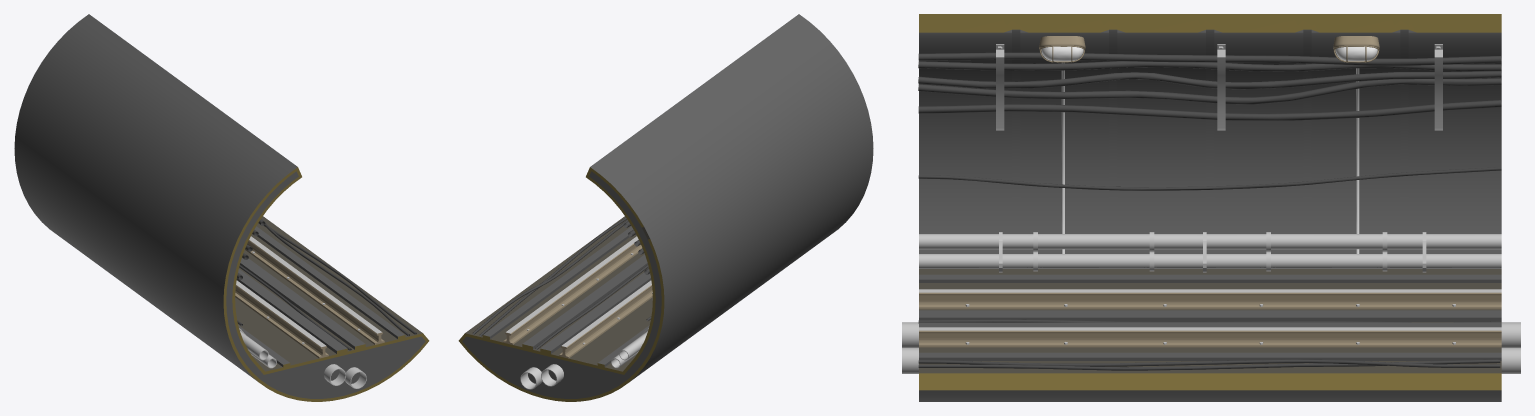
Rendered from SubwaySection.fbx.
The picture shows the model from 3 angles, left to right: view 1: azimuth 30°, elevation 25°; view 2: azimuth 150°, elevation 25°; view 3: azimuth 270°, elevation 25°; orthographic projection. The views are drawn at different scales.
Parts seen in each view (by area): view 1: Tunnel, Rails, wires2, underground pipes, pipes, wires3; view 2: Tunnel, Rails, wires2, underground pipes, pipes, wires3; view 3: Tunnel, Rails, wires, pipes, wires2, wire3, underground pipes, wires3, wire holder 2, wire holder 3, wire holder1, lamp wires2 (+3 smaller).
Boxes of the visible parts, box(x1,y1,x2,y2) form: Tunnel: box(14, 14, 429, 401); Rails: box(235, 236, 384, 358); wires2: box(261, 218, 416, 336); underground pipes: box(324, 364, 366, 388); pipes: box(240, 331, 276, 368); wires3: box(239, 265, 351, 350); Tunnel: box(458, 14, 873, 401); Rails: box(503, 236, 652, 358); wires2: box(472, 217, 627, 336); underground pipes: box(520, 364, 563, 389); pipes: box(611, 331, 647, 368); wires3: box(535, 265, 648, 349); Tunnel: box(919, 14, 1501, 401); Rails: box(919, 289, 1501, 347); wires: box(918, 52, 1501, 120); pipes: box(919, 232, 1501, 271); wires2: box(918, 359, 1500, 370); wire3: box(918, 167, 1501, 190); underground pipes: box(902, 322, 1520, 373); wires3: box(918, 319, 1500, 323); wire holder 2: box(1217, 44, 1225, 130); wire holder 3: box(1434, 44, 1442, 130); wire holder1: box(996, 44, 1004, 130); lamp wires2: box(1356, 68, 1359, 253).
Bounding box in the file's own units: 1.71 × 1.92 × 3.19.
